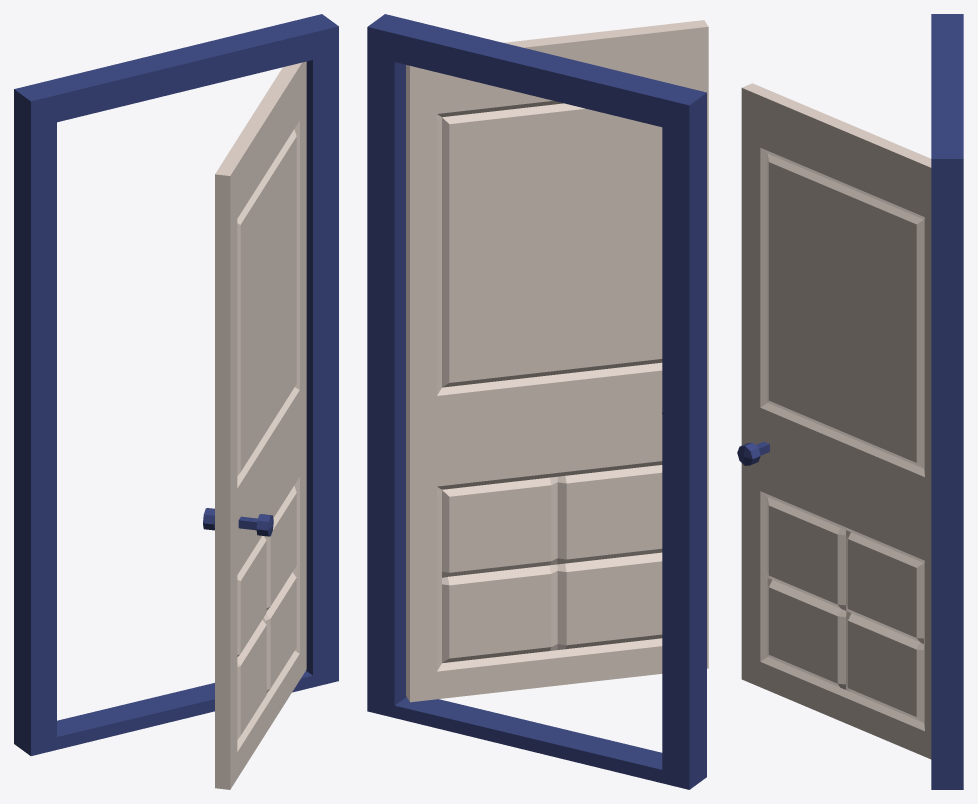
The model's file is Door_9.fbx.
3 renders of one model, left to right at view 1: azimuth 30°, elevation 25°; view 2: azimuth 150°, elevation 25°; view 3: azimuth 270°, elevation 25°, orthographic. The views are drawn at different scales.
Visible parts, largest first — view 1: Door_9; view 2: Door_9; view 3: Door_9.
Part boxes in pixels (x1=…): Door_9: x1=14, y1=14, x2=338, y2=789; Door_9: x1=367, y1=14, x2=708, y2=789; Door_9: x1=737, y1=14, x2=963, y2=789.
Bounding box in the file's own units: 164 × 109 × 334.
